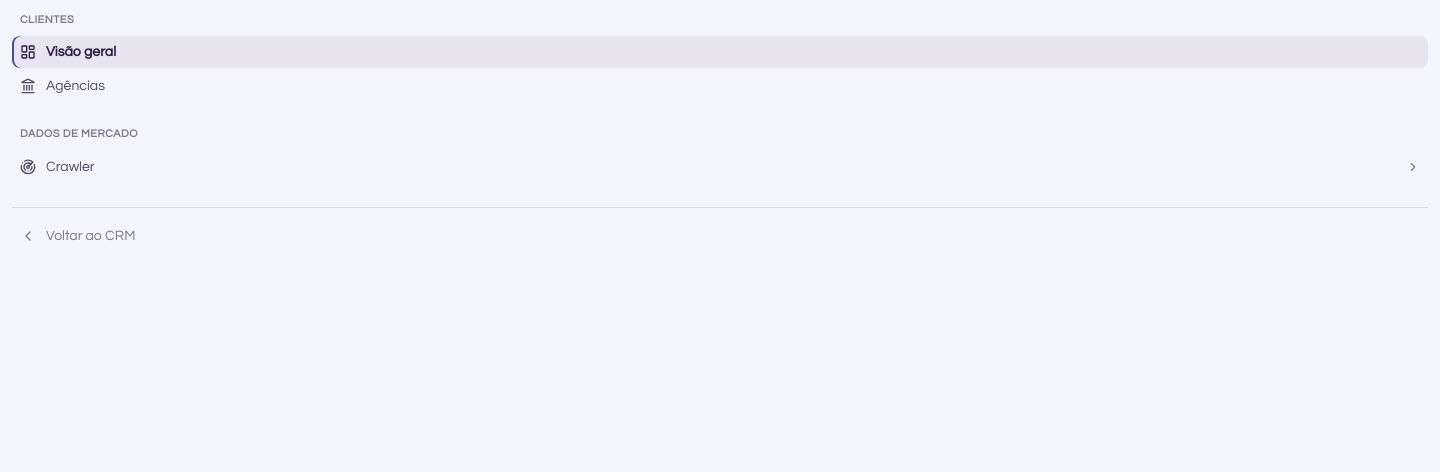
Test: PlatformAdminNavigation › links a full Platform Admin to Clientes and expandable Crawler with its submodules
Check: the link "Prospecção" is not shown
# Click to open Crawler
Click the button "Crawler" at (70, 167), box x1=12 y1=151 x2=1428 y2=183
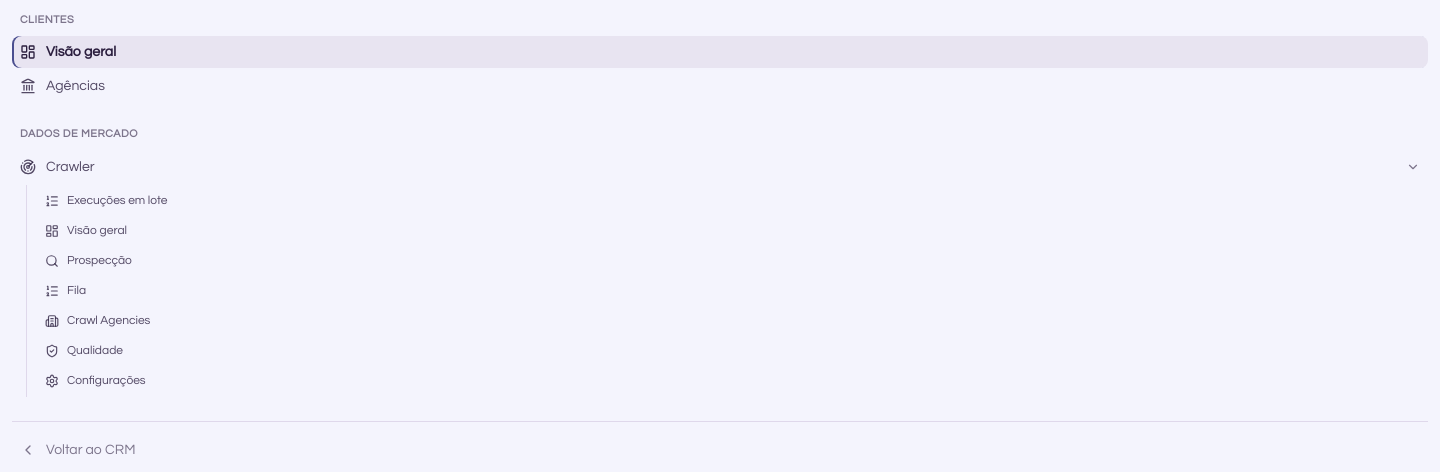
Check: the button "Crawler" is expanded
# Click again to close Crawler
Click the button "Crawler" at (70, 167), box x1=12 y1=151 x2=1428 y2=183
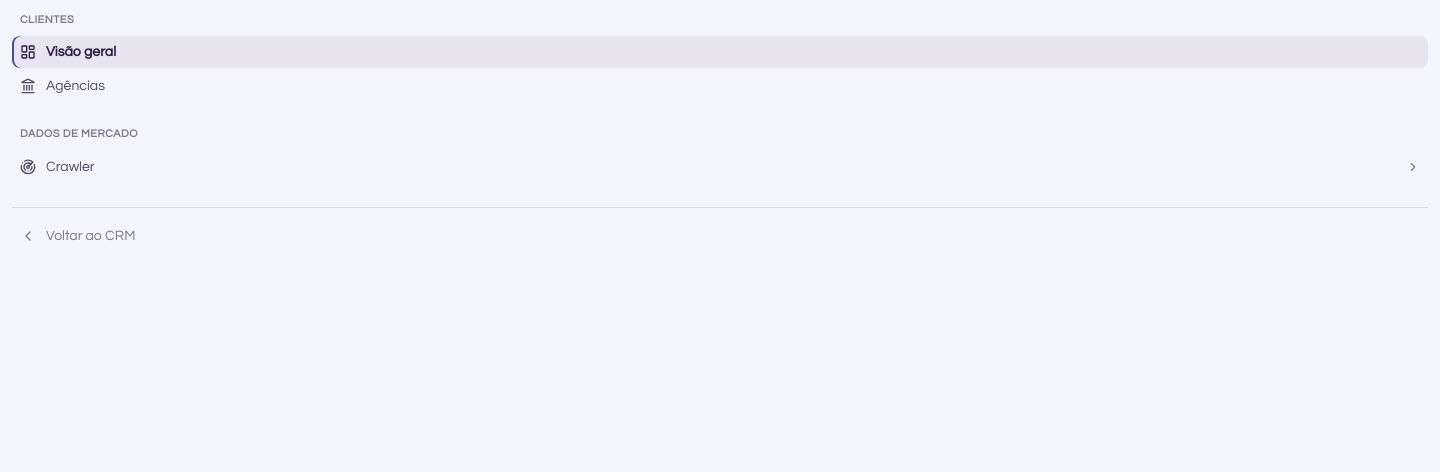
Check: the button "Crawler" is collapsed, box x1=12 y1=151 x2=1428 y2=183
Check: the link "Prospecção" is gone
